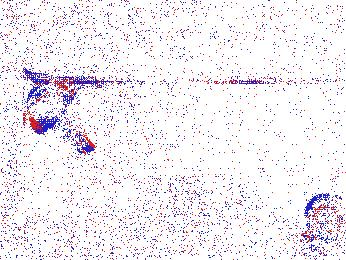flame jellyfish: (24, 82, 95, 156), (201, 175, 263, 233), (298, 192, 346, 244)
